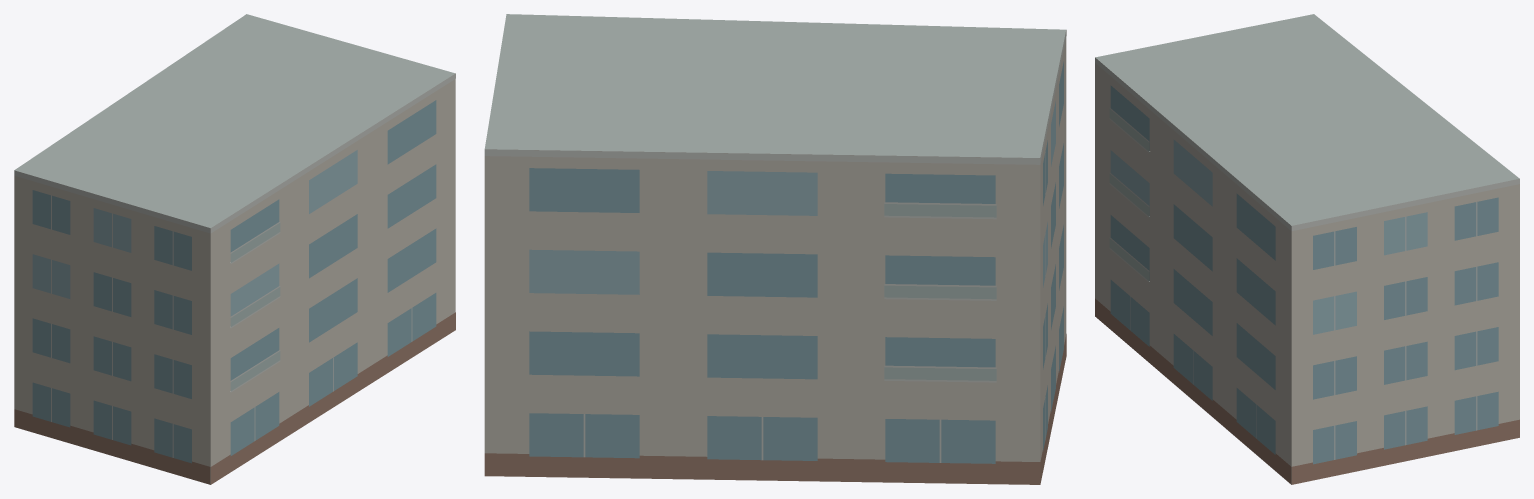
Rendered from survey-upis-32706548.glb.
3 renders of one model, left to right at view 1: azimuth 30°, elevation 25°; view 2: azimuth 150°, elevation 25°; view 3: azimuth 270°, elevation 25°, orthographic. The views are drawn at different scales.
Visible parts, largest first — view 1: survey-upis-32706548.tmp; view 2: survey-upis-32706548.tmp; view 3: survey-upis-32706548.tmp.
Boxes of the visible parts, x1,y1,x2,y2 form: survey-upis-32706548.tmp: (14,14,455,484); survey-upis-32706548.tmp: (484,14,1066,484); survey-upis-32706548.tmp: (1095,14,1519,484).
Size of the model in its own units: 20.54 by 11.7 by 17.4.
